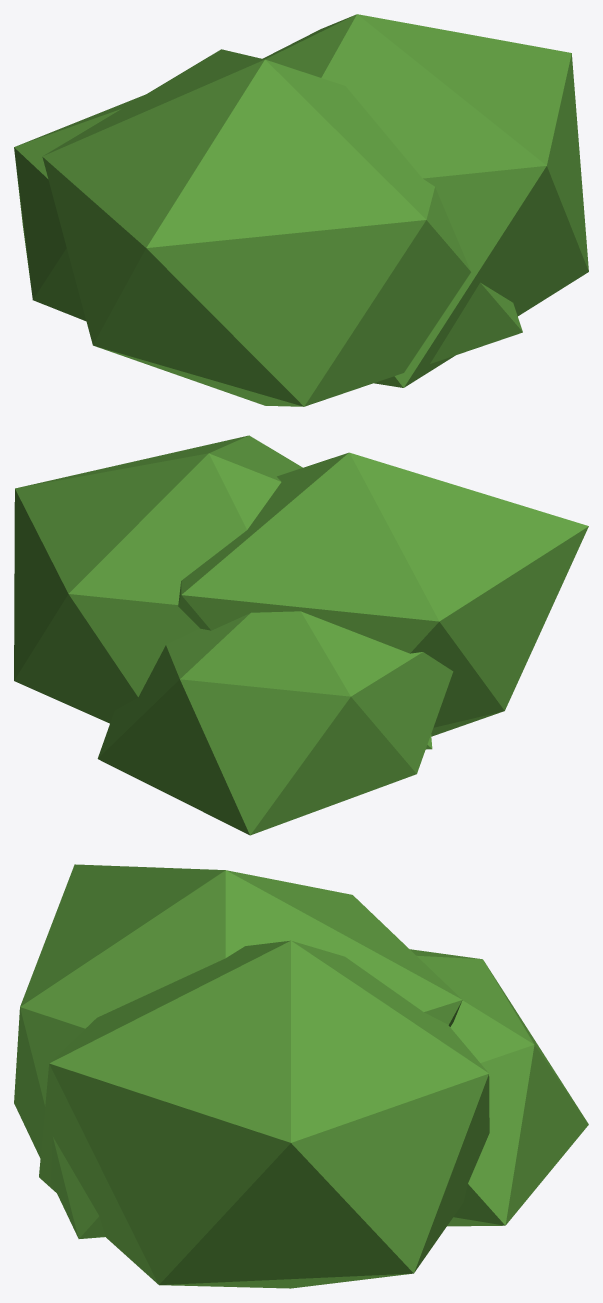
The model's file is HS_LP_Bush_01.fbx.
3 renders of one model, top to bottom at view 1: azimuth 30°, elevation 25°; view 2: azimuth 150°, elevation 25°; view 3: azimuth 270°, elevation 25°, orthographic. The views are drawn at different scales.
Parts seen in each view (by area): view 1: HS_LP_Bush_01; view 2: HS_LP_Bush_01; view 3: HS_LP_Bush_01.
Boxes of the visible parts, bbox=[...] form: HS_LP_Bush_01: bbox=[14, 14, 588, 406]; HS_LP_Bush_01: bbox=[14, 435, 588, 835]; HS_LP_Bush_01: bbox=[14, 864, 588, 1288].
Bounding box in the file's own units: 110 × 68.9 × 99.74.
